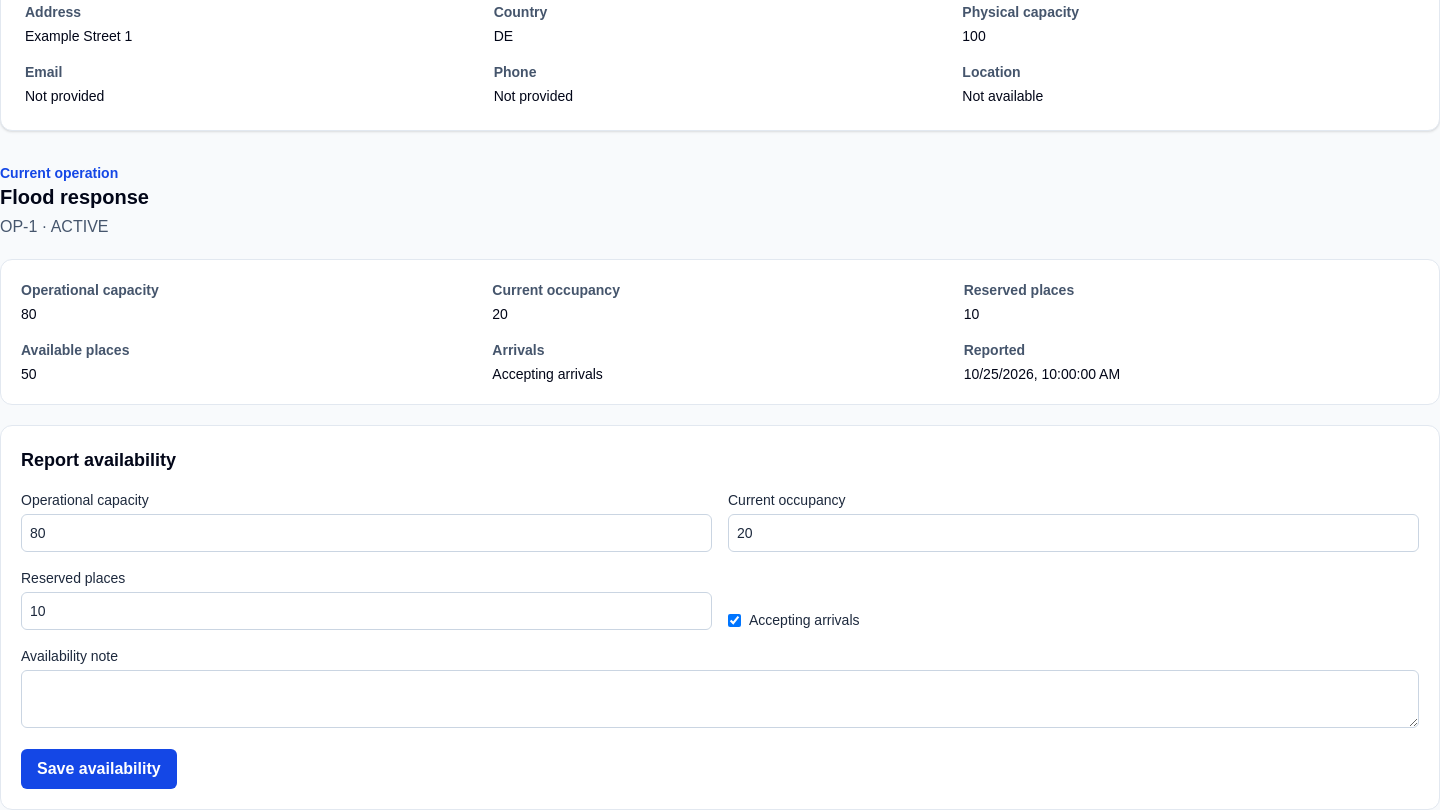
Scenario: ShelterDetail › renders a reported active shelter and uses the server result after an update
(page scrolled)
Expected: the text "50" is shown, [21,366,37,382]
Click the button "Save availability".
click(99, 769)  # box [21,749,177,789]
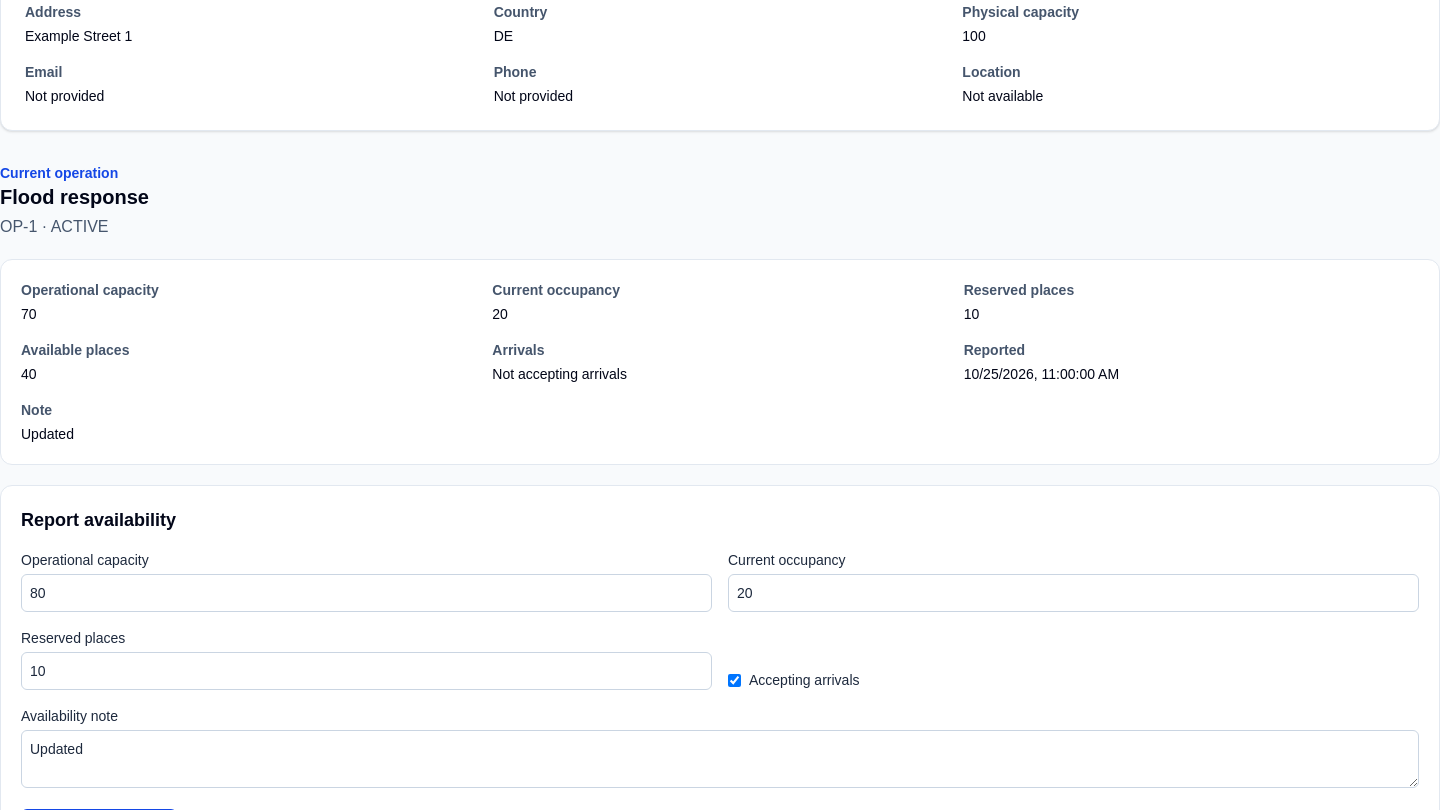
Result: the text "40" is shown at [21,366,37,382]
